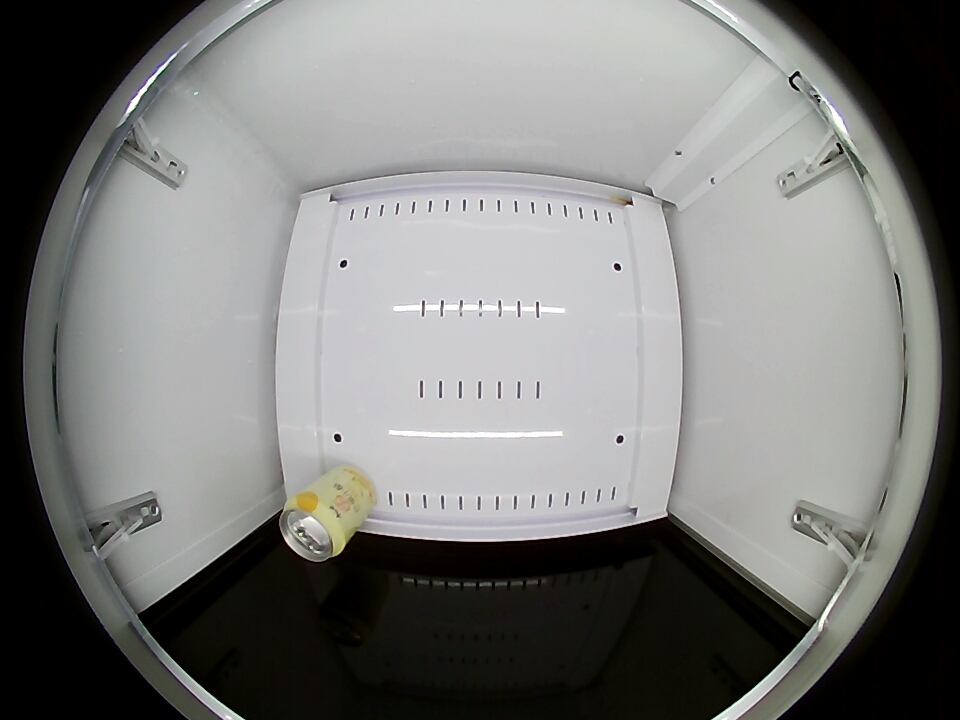mangguoxiaolao: (279, 495, 349, 562)
